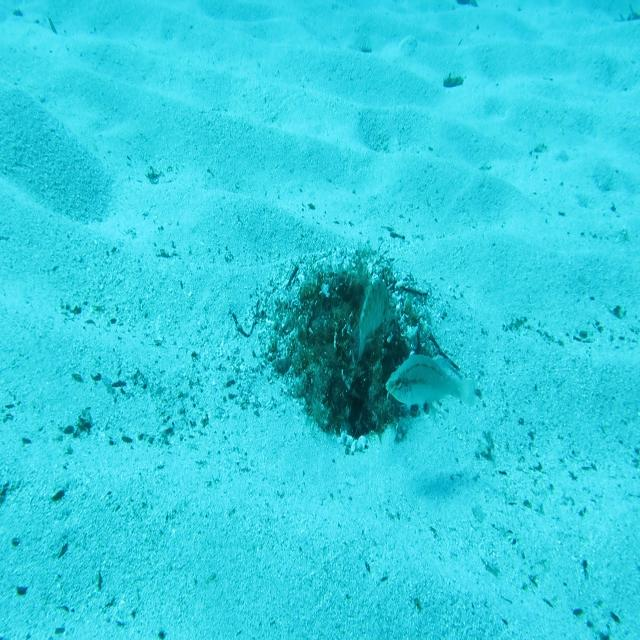NIP_CORE: (354, 272, 392, 366)
core_nest: (326, 284, 372, 337)
female: (384, 347, 478, 416)
nest: (252, 227, 457, 462)
vegetation: (441, 72, 466, 91), (455, 0, 478, 6)
